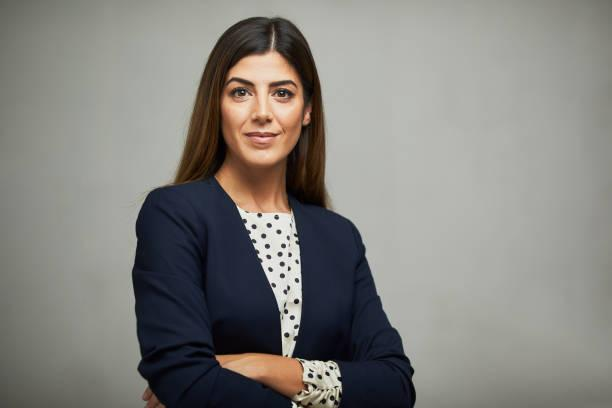no_goggle: (217, 74, 313, 113)
no_helmet: (186, 6, 334, 92)
no_vest: (121, 166, 435, 408)
